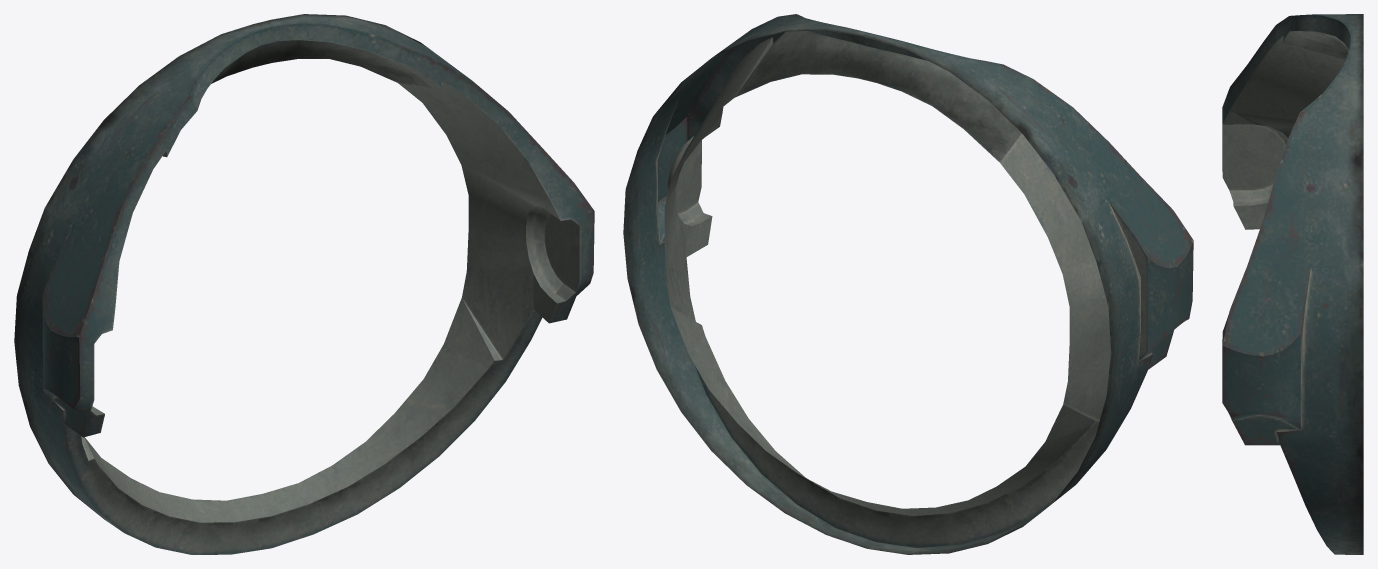
The model's file is Turret_01.glb.
The picture shows the model from 3 angles, left to right: view 1: azimuth 30°, elevation 25°; view 2: azimuth 150°, elevation 25°; view 3: azimuth 270°, elevation 25°; orthographic projection. The views are drawn at different scales.
Parts seen in each view (by area): view 1: set_0_group_0; view 2: set_0_group_0; view 3: set_0_group_0.
Boxes of the visible parts, <box> form: set_0_group_0: <box>14,14,594,554</box>; set_0_group_0: <box>623,14,1193,554</box>; set_0_group_0: <box>1222,14,1363,554</box>.
Bounding box in the file's own units: 2.66 × 2.51 × 0.6517.
1 material, 1 textured.
